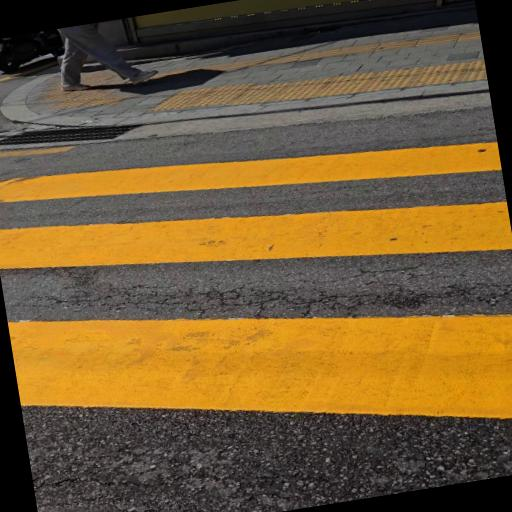yellow-crosswalk: (0, 95, 512, 512)
